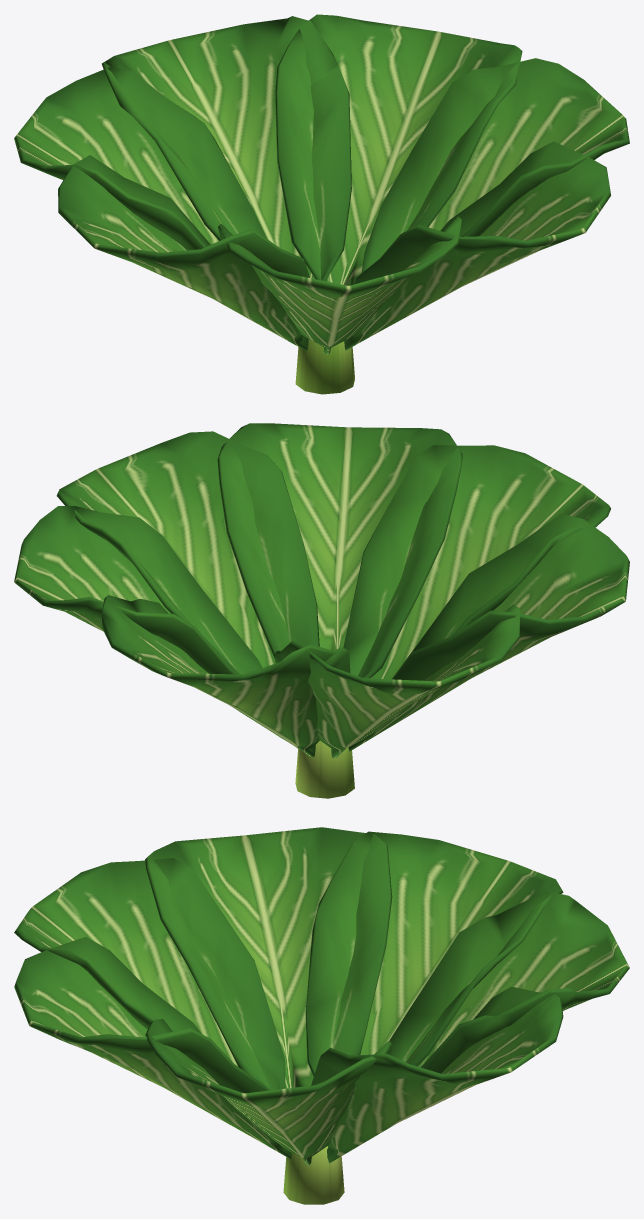
Rendered from NP_Cabbage_Young_LOD1.fbx.
3 views of the same model, one above another, from view 1: azimuth 30°, elevation 25°; view 2: azimuth 150°, elevation 25°; view 3: azimuth 270°, elevation 25° (orthographic).
Visible parts, largest first — view 1: NP_Cabbage_Young; view 2: NP_Cabbage_Young; view 3: NP_Cabbage_Young.
Part boxes in pixels (bbox=[...]): NP_Cabbage_Young: bbox=[14, 14, 629, 394]; NP_Cabbage_Young: bbox=[14, 423, 629, 798]; NP_Cabbage_Young: bbox=[14, 827, 629, 1204].
Bounding box in the file's own units: 50.4 × 22.75 × 50.38.
